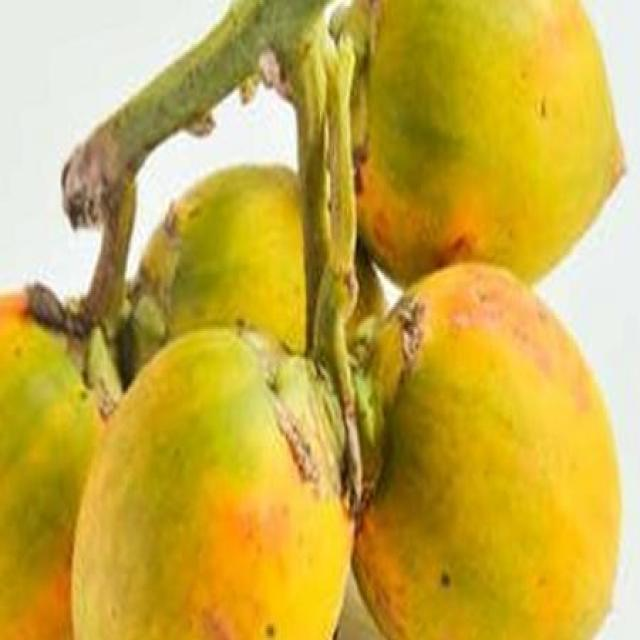good: (350, 263, 624, 638), (70, 325, 358, 638), (354, 0, 627, 287)
